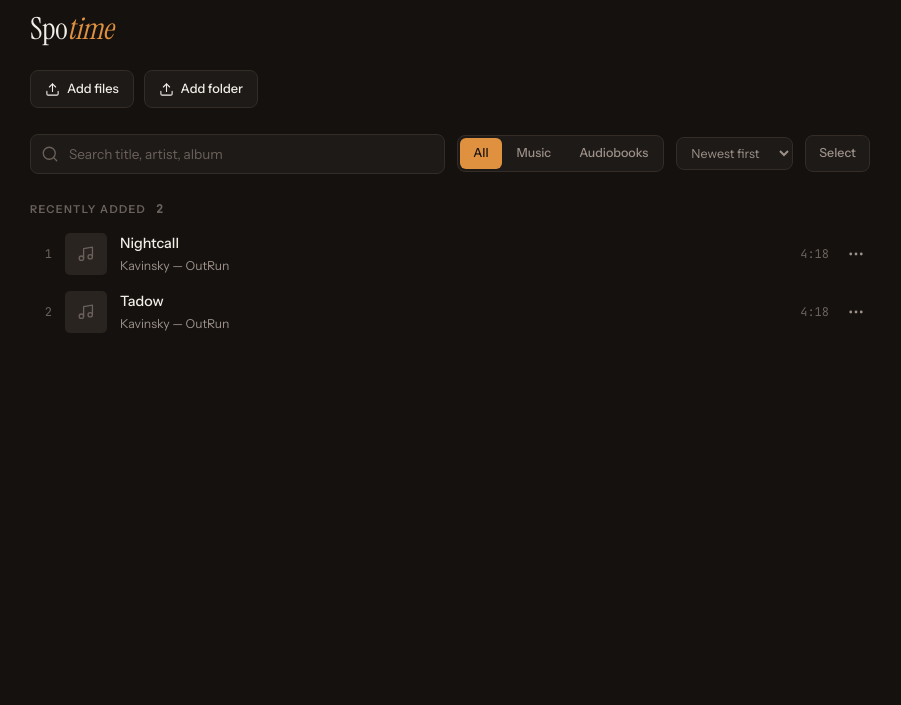
Test case: transient messages › confirms a bulk tag add with the count it touched
Expected: the text "Tadow" is shown, top-left (120, 292), bottom-right (164, 310)
Click the button "Select" at x=838, y=154, box top-left (805, 135), bottom-right (870, 172)
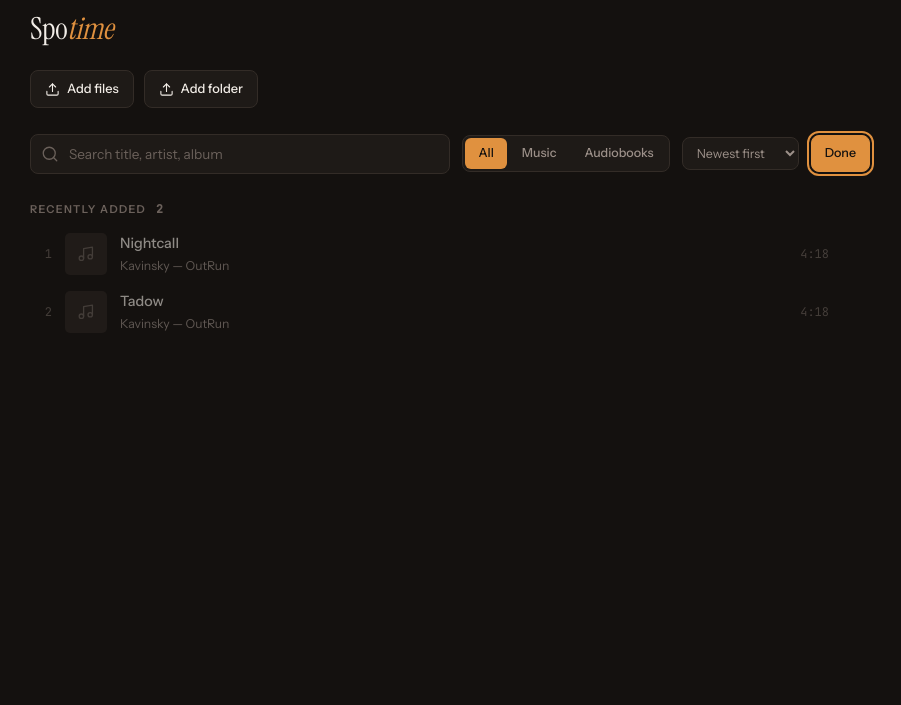
Click the checkbox named "Select Nightcall" at x=450, y=254, box top-left (20, 225), bottom-right (880, 283)
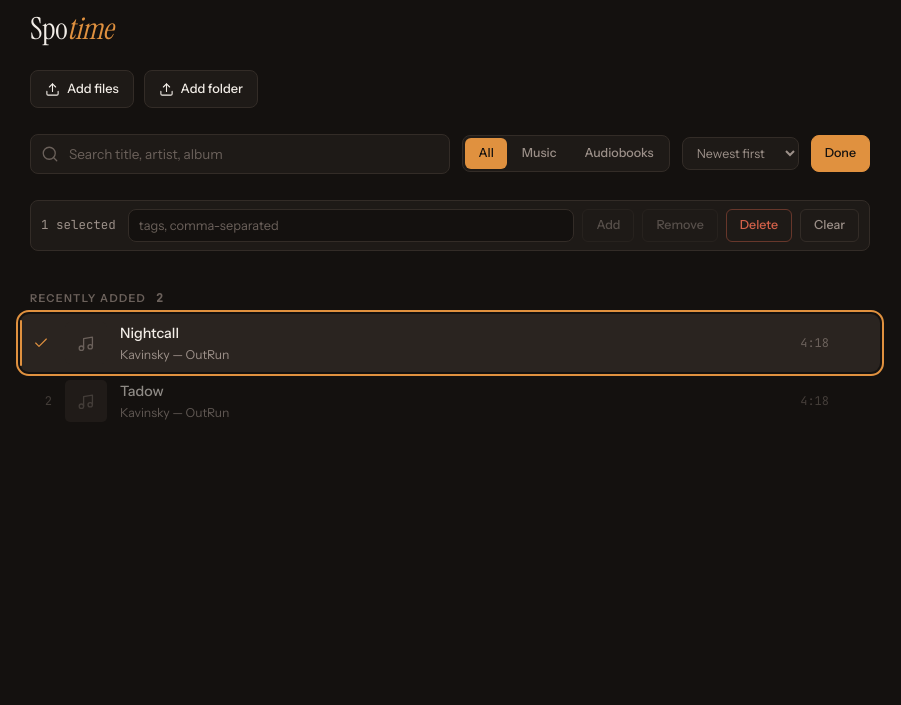
Click the checkbox named "Select Tadow" at x=450, y=402, box top-left (20, 372), bottom-right (880, 430)
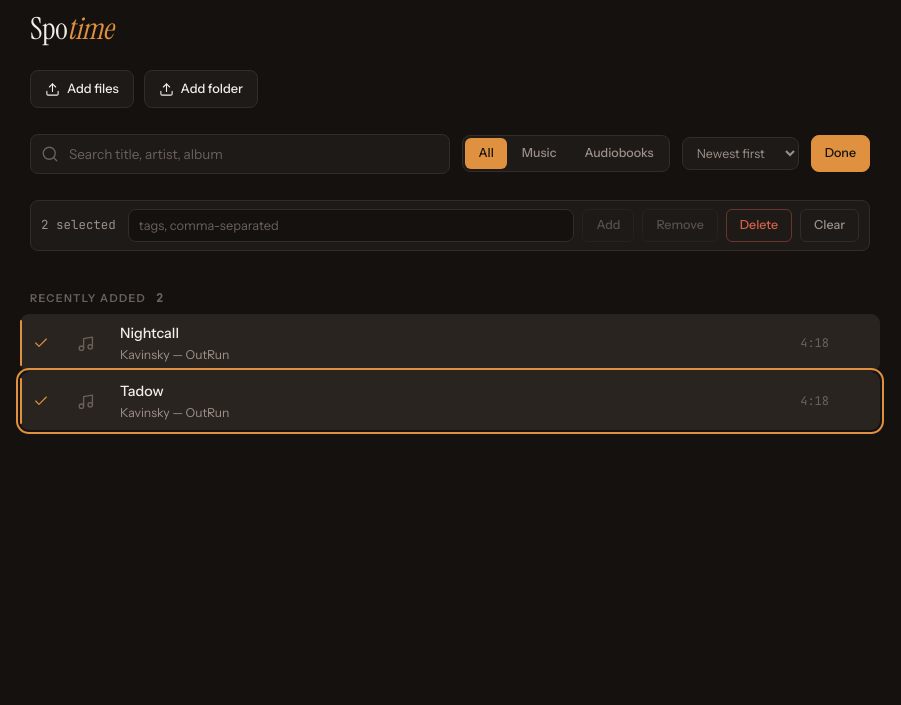
Type "night" into the field labelled "tags" at x=351, y=226, box top-left (128, 209), bottom-right (574, 242)
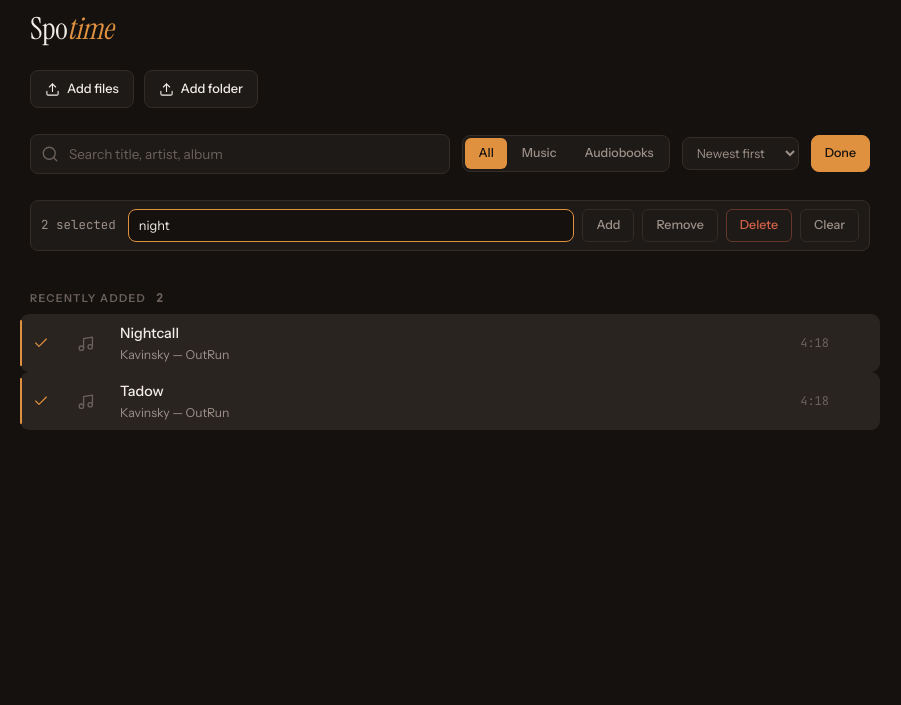
Click the button "Add" at x=608, y=226, box top-left (582, 209), bottom-right (634, 242)
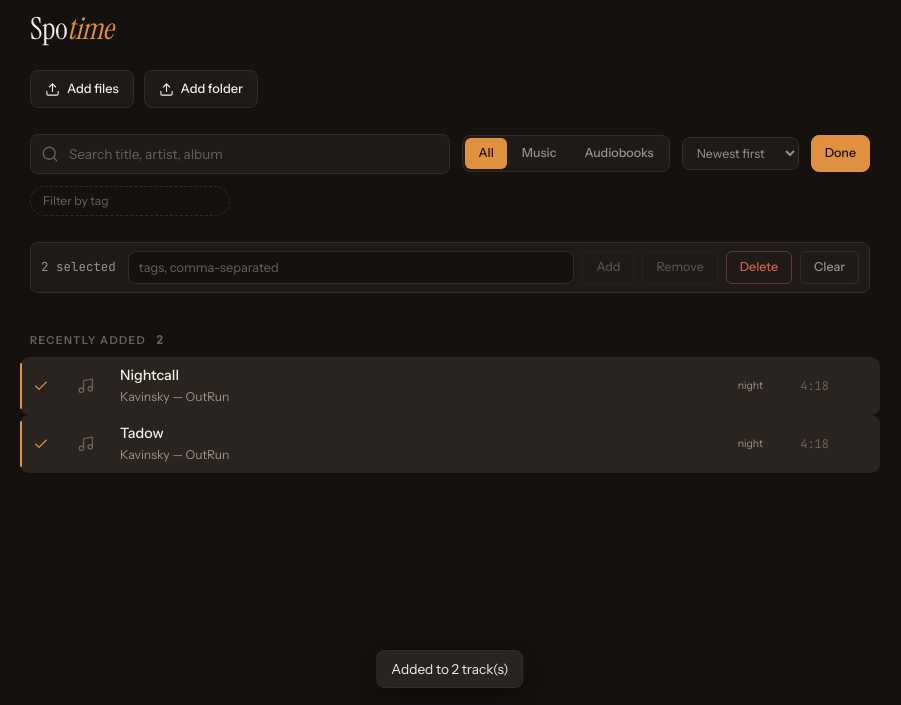
Expected: the text "Added to 2 track(s)" is shown, top-left (376, 650), bottom-right (524, 688)
